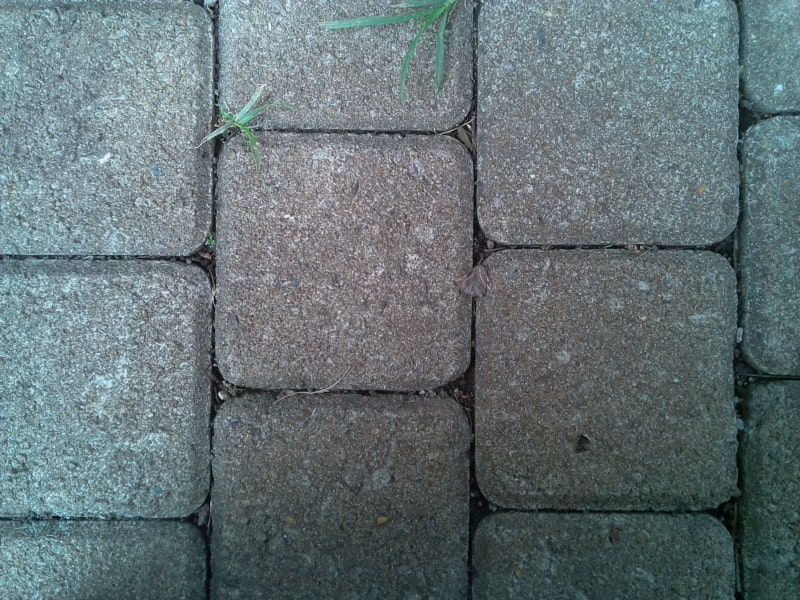Weed: (342, 1, 455, 78), (210, 100, 268, 146), (201, 234, 220, 251)
